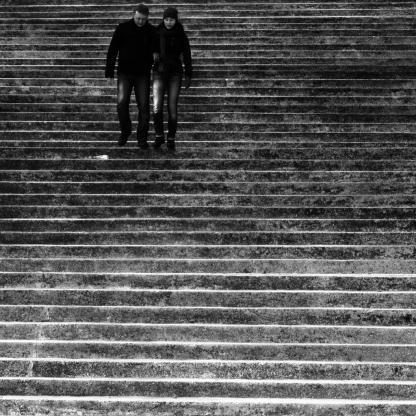person: (103, 2, 157, 150), (151, 5, 195, 151)
stair: (11, 146, 416, 416)
